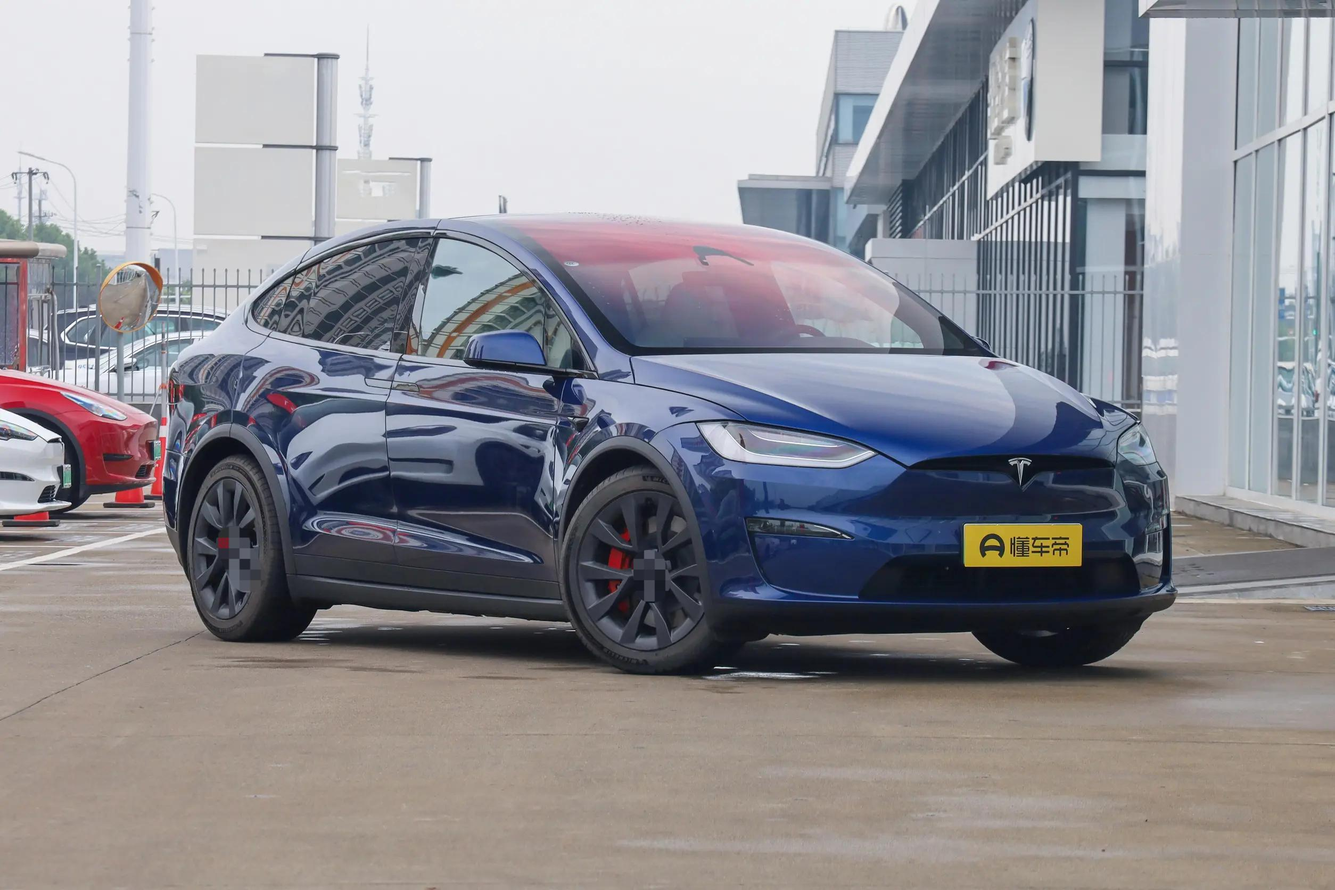Tesla: (1008, 458, 1031, 486)
